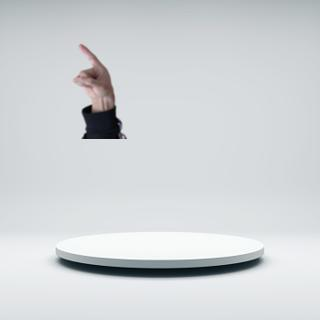IRRITATED: (71, 42, 114, 100)
